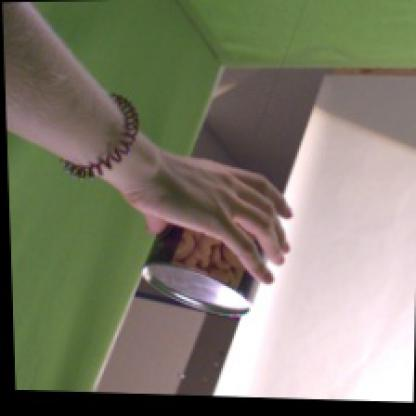Hand: (130, 155, 294, 286)
